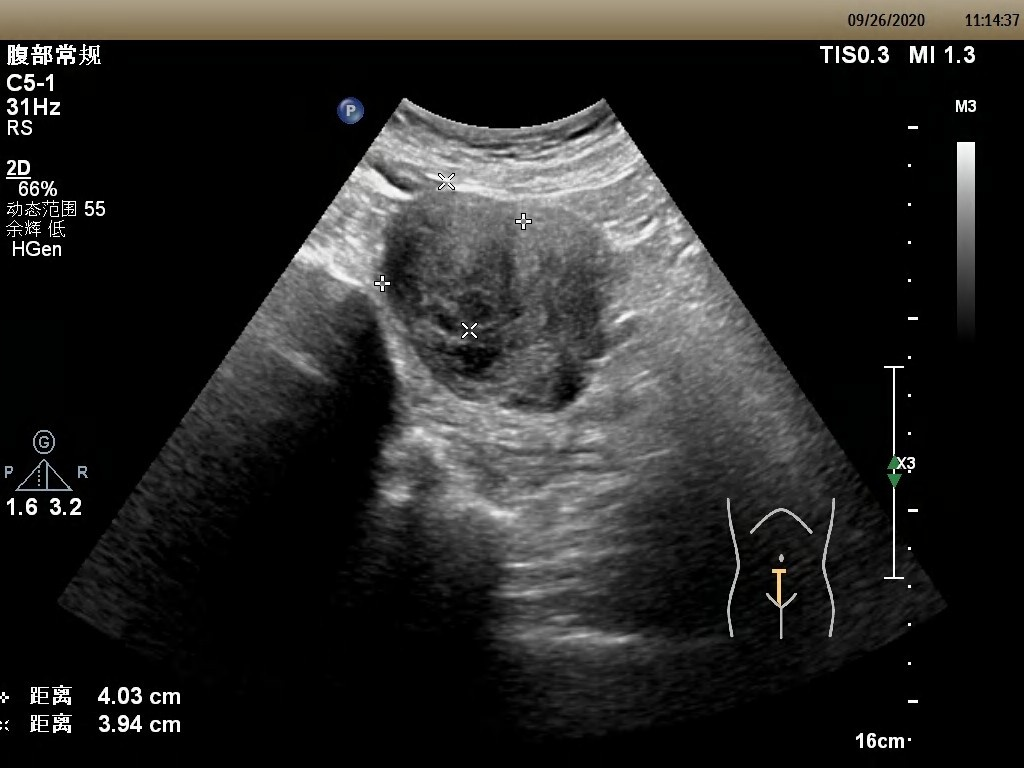肌瘤: (384, 181, 531, 331)
